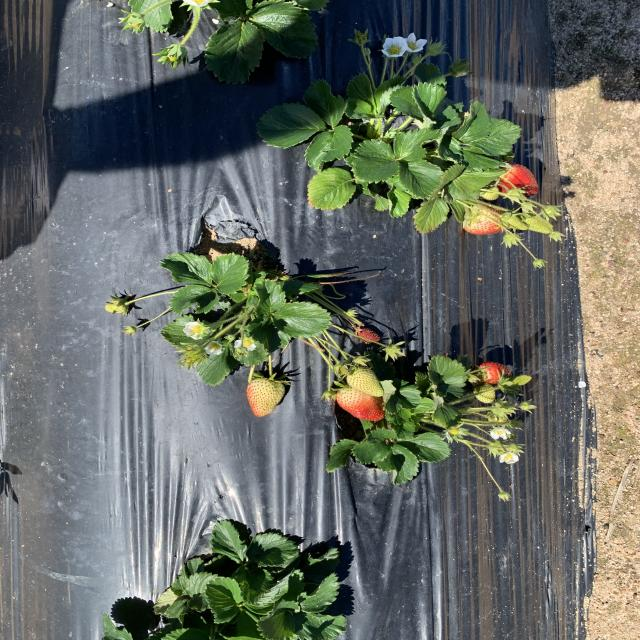unripe: (487, 160, 542, 196), (336, 388, 388, 422), (476, 361, 512, 384)
